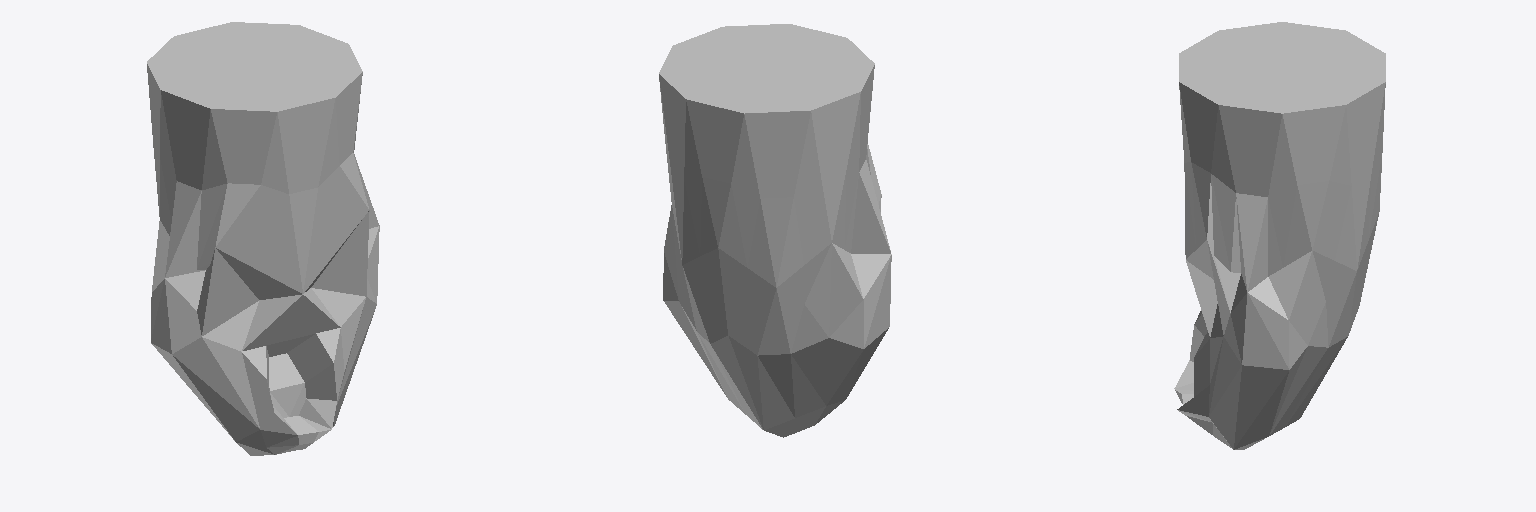
File: tiki_firing_2.obj
3 views of the same model, side by side, from view 1: azimuth 30°, elevation 25°; view 2: azimuth 150°, elevation 25°; view 3: azimuth 270°, elevation 25° (orthographic).
Parts seen in each view (by area): view 1: Icosphere.003; view 2: Icosphere.003; view 3: Icosphere.003.
Part boxes in pixels (x1,y1,x2,y2): Icosphere.003: (147, 22, 379, 455); Icosphere.003: (659, 24, 891, 437); Icosphere.003: (1174, 22, 1385, 449).
Size of the model in its own units: 1.48 by 2.47 by 1.26.